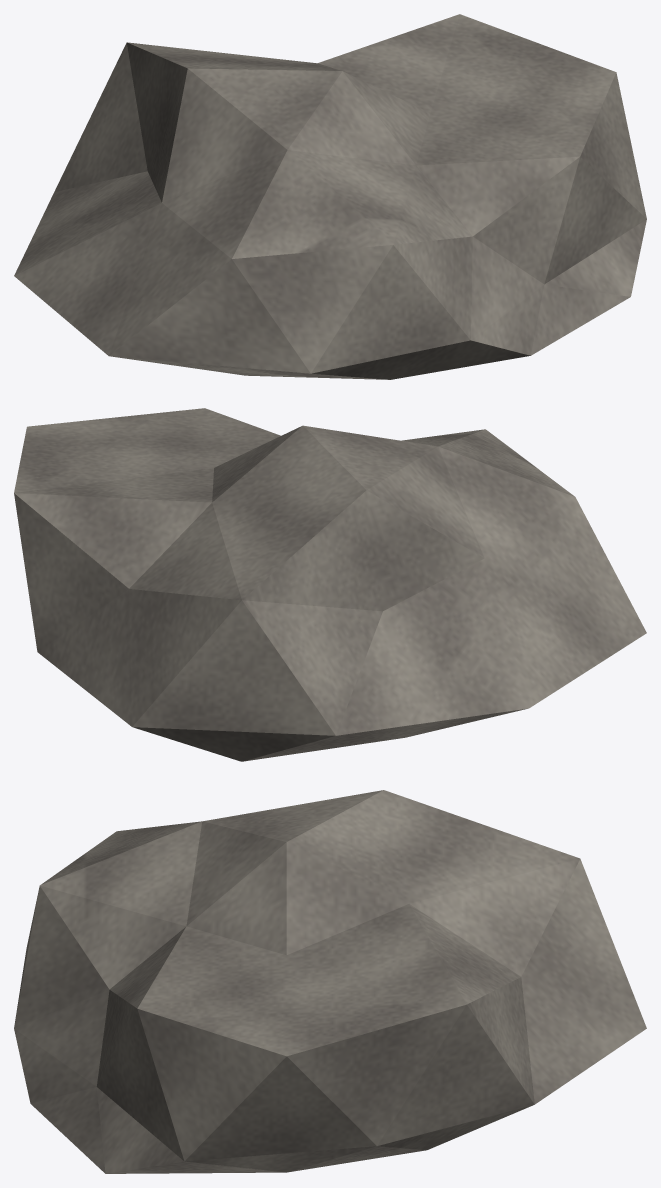
The model's file is rock_large.glb.
3 views of the same model, one above another, from view 1: azimuth 30°, elevation 25°; view 2: azimuth 150°, elevation 25°; view 3: azimuth 270°, elevation 25° (orthographic). The views are drawn at different scales.
Visible parts, largest first — view 1: rock_large; view 2: rock_large; view 3: rock_large.
Boxes of the visible parts, x1=… form: rock_large: x1=14, y1=14, x2=646, y2=379; rock_large: x1=14, y1=408, x2=646, y2=761; rock_large: x1=14, y1=790, x2=646, y2=1173.
Size of the model in its own units: 2.81 by 1.02 by 2.58.
Materials: 1 (1 with a texture image).
